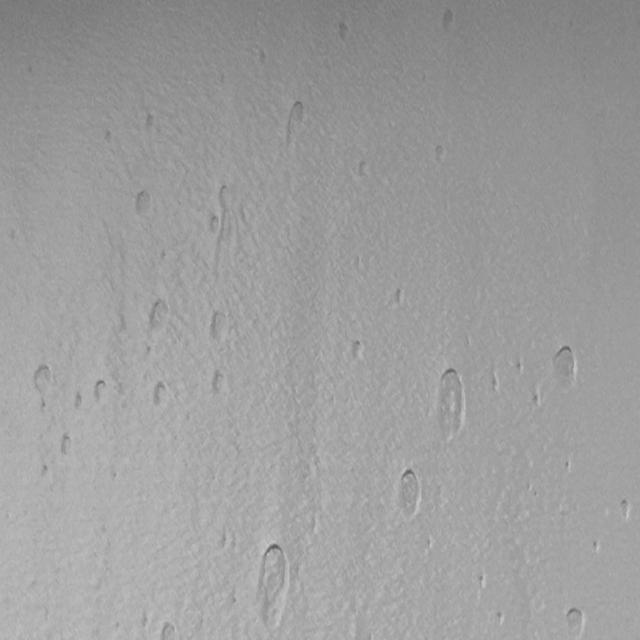pin holes: (252, 541, 292, 632), (432, 359, 472, 444), (396, 469, 424, 516), (551, 346, 583, 387), (30, 362, 58, 403), (282, 101, 309, 140), (148, 298, 172, 332), (564, 604, 588, 637), (207, 308, 230, 341), (150, 381, 172, 410), (134, 189, 154, 218), (90, 379, 110, 406), (438, 6, 458, 33), (211, 369, 231, 396), (335, 20, 355, 44), (349, 339, 368, 364), (205, 211, 224, 236), (58, 432, 76, 458), (355, 157, 373, 181), (144, 112, 161, 136), (617, 498, 633, 522), (216, 182, 232, 206), (158, 621, 178, 640), (391, 284, 407, 307), (40, 462, 55, 486), (434, 145, 449, 165), (72, 393, 85, 412), (142, 342, 155, 360), (532, 392, 544, 410), (496, 610, 507, 628), (477, 573, 487, 592), (590, 539, 601, 556), (562, 459, 573, 476), (492, 371, 500, 394), (514, 361, 526, 376), (102, 130, 114, 145), (231, 531, 238, 552), (142, 610, 150, 628), (222, 526, 228, 549), (427, 534, 433, 550), (160, 250, 167, 262), (115, 620, 120, 631), (233, 598, 237, 606), (113, 471, 117, 479)
